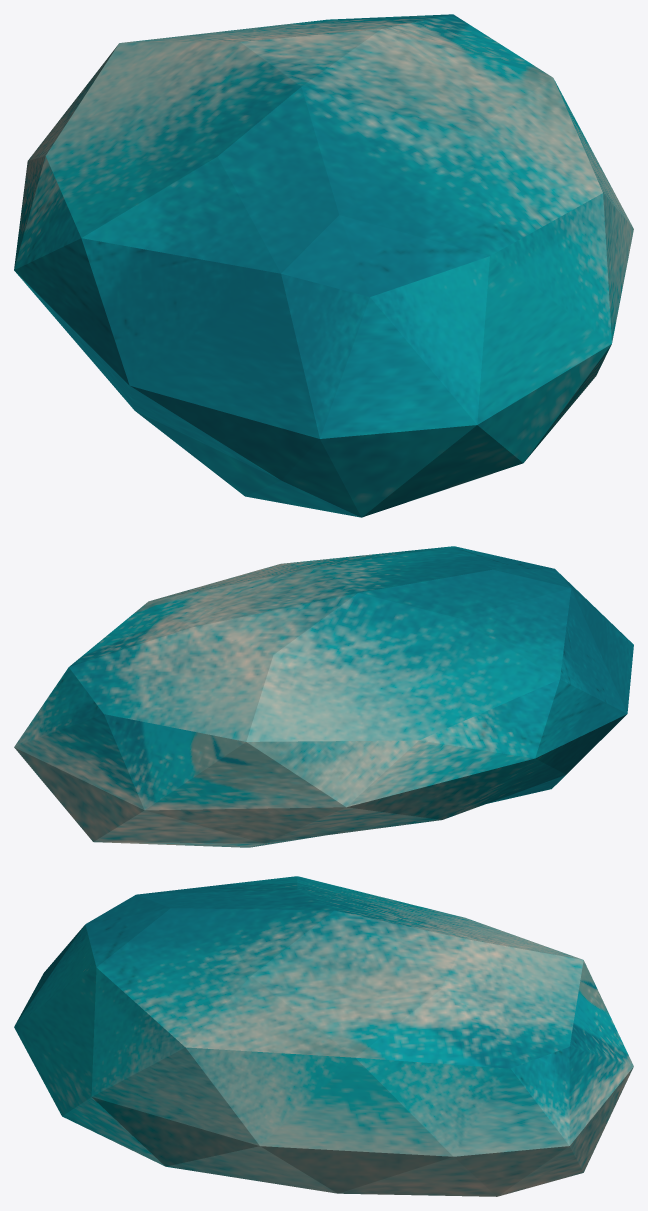
Rendered from Pebble_4.fbx.
3 views of the same model, one above another, from view 1: azimuth 30°, elevation 25°; view 2: azimuth 150°, elevation 25°; view 3: azimuth 270°, elevation 25° (orthographic). The views are drawn at different scales.
Visible parts, largest first — view 1: Pebble_4; view 2: Pebble_4; view 3: Pebble_4.
Part boxes in pixels (x1,y1,x2,y2): Pebble_4: [14, 14, 633, 517]; Pebble_4: [14, 546, 633, 847]; Pebble_4: [14, 876, 633, 1196].
Size of the model in its own units: 160 by 84.54 by 197.
